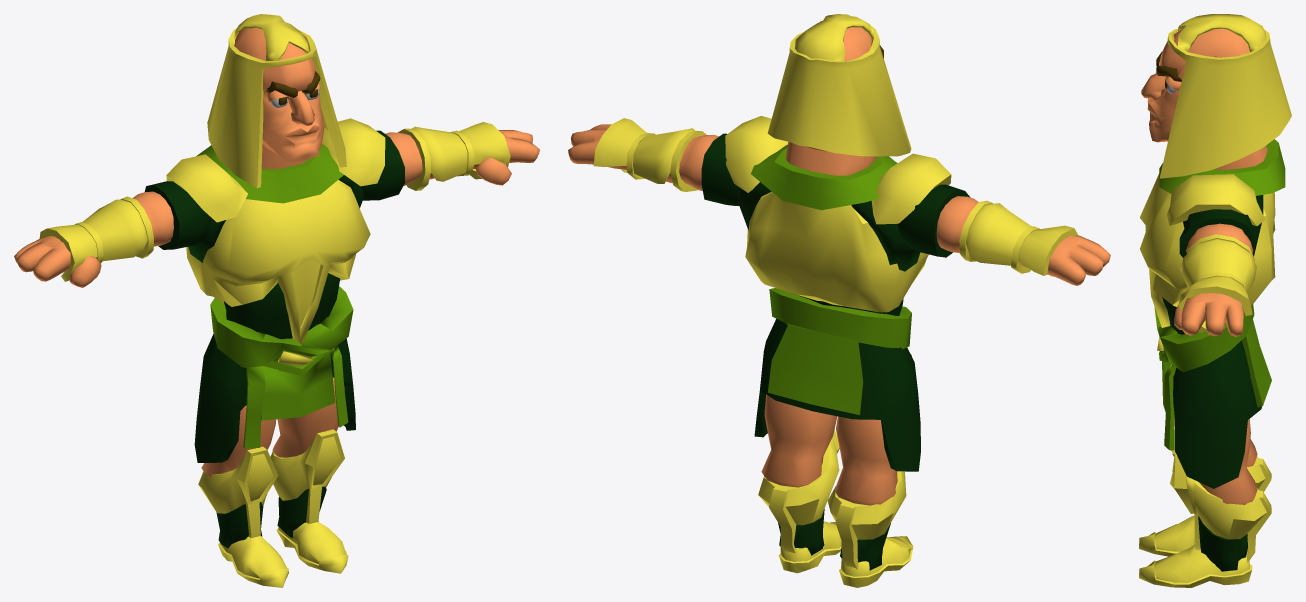
The picture shows the model from 3 angles, left to right: view 1: azimuth 30°, elevation 25°; view 2: azimuth 150°, elevation 25°; view 3: azimuth 270°, elevation 25°; orthographic projection. The views are drawn at different scales.
Visible parts, largest first — view 1: armor, belt, cape, close, Head, bracer1, bracer2, knee_pad1, knee_pad2, collar, shoulder_pad1, Shirt (+13 smaller); view 2: cape, armor, belt, close, bracer1, leg2, collar, bracer2, leg1, knee_pad2, shoulder_pad1, knee_pad1 (+13 smaller); view 3: cape, close, armor, belt, bracer2, knee_pad2, Head, shoulder_pad2, foot2, palm2, collar, shin2 (+9 smaller).
Boxes of the visible parts, box(x1,y1,x2,y2) form: armor: box(186, 180, 370, 343); belt: box(210, 286, 353, 448); cape: box(207, 14, 346, 188); close: box(194, 334, 355, 462); Head: box(234, 27, 324, 168); bracer1: box(39, 196, 153, 281); bracer2: box(398, 122, 510, 190); knee_pad1: box(198, 446, 278, 538); knee_pad2: box(270, 429, 344, 523); collar: box(196, 144, 343, 203); shoulder_pad1: box(166, 154, 247, 222); Shirt: box(224, 273, 340, 338); cape: box(767, 14, 911, 156); armor: box(745, 191, 928, 312); belt: box(767, 288, 911, 415); close: box(754, 319, 920, 471); bracer1: box(959, 200, 1078, 276); leg2: box(761, 394, 837, 487); collar: box(751, 144, 897, 210); bracer2: box(593, 118, 706, 191); leg1: box(835, 416, 897, 505); knee_pad2: box(758, 430, 839, 553); shoulder_pad1: box(871, 153, 951, 224); knee_pad1: box(827, 471, 906, 569); cape: box(1159, 14, 1291, 178); close: box(1173, 340, 1261, 488); armor: box(1140, 173, 1275, 327); belt: box(1154, 304, 1271, 450); bracer2: box(1178, 234, 1256, 332); knee_pad2: box(1170, 452, 1271, 562); Head: box(1147, 28, 1267, 169); shoulder_pad2: box(1167, 174, 1265, 225); foot2: box(1139, 544, 1252, 587); palm2: box(1174, 293, 1243, 336); collar: box(1159, 139, 1285, 195); shin2: box(1198, 515, 1247, 571).
Size of the model in its own units: 20.32 by 20.04 by 5.09.
